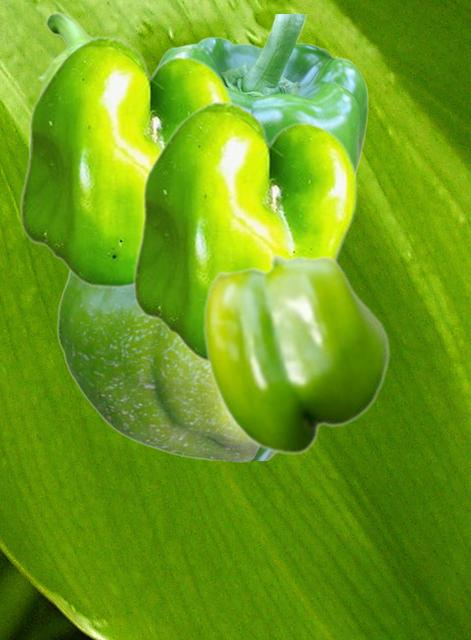bell_pepper: (132, 100, 356, 363), (19, 35, 233, 287), (56, 271, 259, 461), (203, 253, 389, 454), (157, 14, 367, 172), (28, 12, 90, 148)
